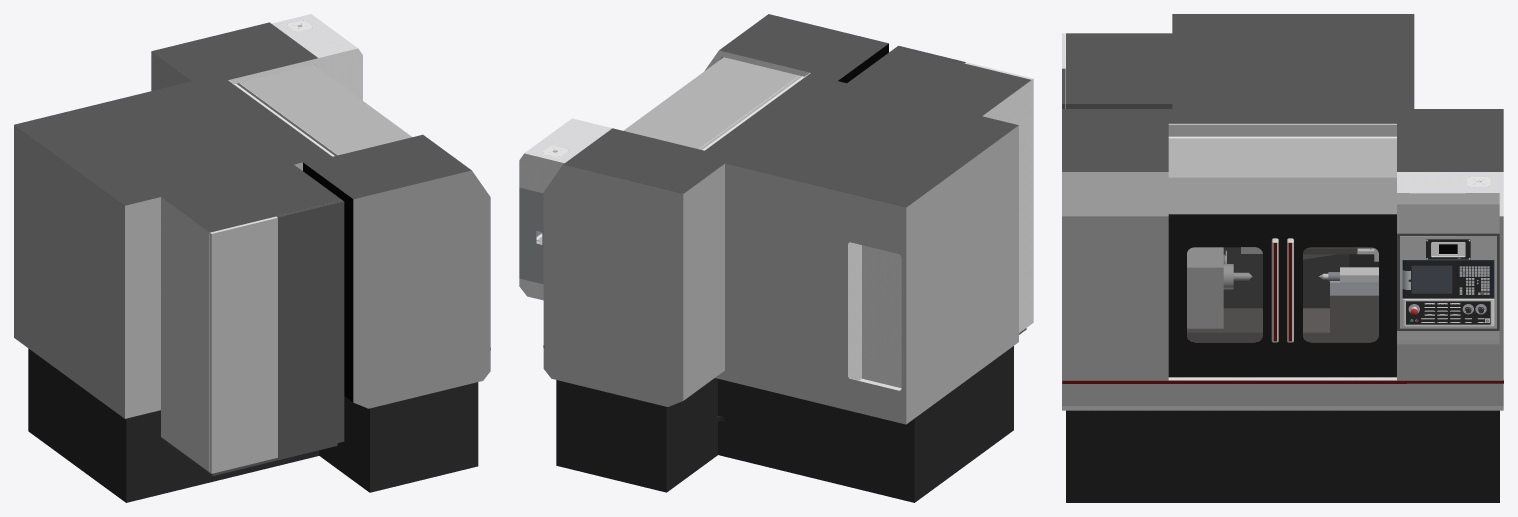
The picture shows the model from 3 angles, left to right: view 1: azimuth 30°, elevation 25°; view 2: azimuth 150°, elevation 25°; view 3: azimuth 270°, elevation 25°; orthographic projection. The views are drawn at different scales.
Visible parts, largest first — view 1: Mesh_3, Mesh_14, Mesh_12, Mesh_40, Mesh_16, Mesh_11, Mesh_4, Mesh_10, Mesh_45, Mesh_0; view 2: Mesh_3, Mesh_14, Mesh_40, Mesh_4, Mesh_11, Mesh_10, Mesh_47, Mesh_0; view 3: Mesh_14, Mesh_40, Mesh_12, Mesh_37, Mesh_4, Mesh_13, Mesh_42, Mesh_38, Mesh_3, Mesh_10, 主要部件_1, Mesh_39 (+12 smaller).
Part boxes in pixels (x1,y1,x2,y2): Mesh_3: (14, 125, 302, 473); Mesh_14: (14, 22, 471, 232); Mesh_12: (353, 170, 490, 408); Mesh_40: (28, 348, 478, 502); Mesh_16: (167, 200, 344, 476); Mesh_11: (161, 48, 362, 472); Mesh_4: (151, 51, 412, 155); Mesh_10: (209, 14, 357, 473); Mesh_45: (303, 162, 353, 401); Mesh_0: (235, 20, 337, 156); Mesh_3: (543, 125, 1018, 424); Mesh_14: (563, 14, 1030, 207); Mesh_40: (556, 346, 1013, 502); Mesh_4: (623, 57, 798, 400); Mesh_11: (705, 50, 1031, 390); Mesh_10: (519, 57, 1033, 390); Mesh_47: (519, 187, 543, 284); Mesh_0: (536, 75, 803, 244); Mesh_14: (1062, 14, 1503, 171); Mesh_40: (1066, 249, 1499, 502); Mesh_12: (1062, 193, 1503, 405); Mesh_37: (1168, 214, 1396, 377); Mesh_4: (1168, 138, 1496, 328); Mesh_13: (1168, 177, 1396, 214); Mesh_42: (1187, 247, 1262, 341); Mesh_38: (1303, 247, 1378, 341); Mesh_3: (1168, 124, 1499, 339); Mesh_10: (1062, 33, 1503, 410); 主要部件_1: (1187, 247, 1378, 341); Mesh_39: (1062, 172, 1168, 216).
Bounding box in the file's own units: 6.22 × 5.1 × 6.25.
Materials: 58 (4 with a texture image).
